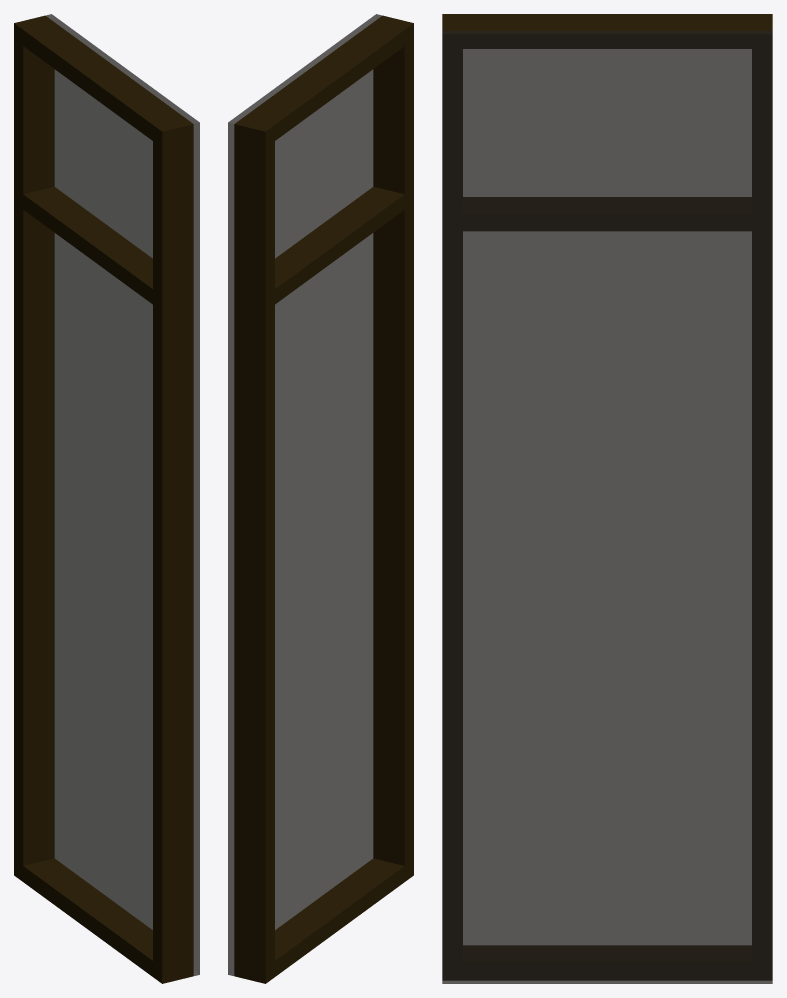
Rendered from LongWindowGeneral(1LH-Join).fbx.
3 renders of one model, left to right at view 1: azimuth 30°, elevation 25°; view 2: azimuth 150°, elevation 25°; view 3: azimuth 270°, elevation 25°, orthographic. The views are drawn at different scales.
Visible parts, largest first — view 1: Glass; view 2: Glass; view 3: Glass.
Boxes of the visible parts, x1=… form: Glass: x1=14, y1=14, x2=199, y2=983; Glass: x1=228, y1=14, x2=413, y2=983; Glass: x1=442, y1=14, x2=772, y2=983.
Bounding box in the file's own units: 120 × 2600 × 820.
